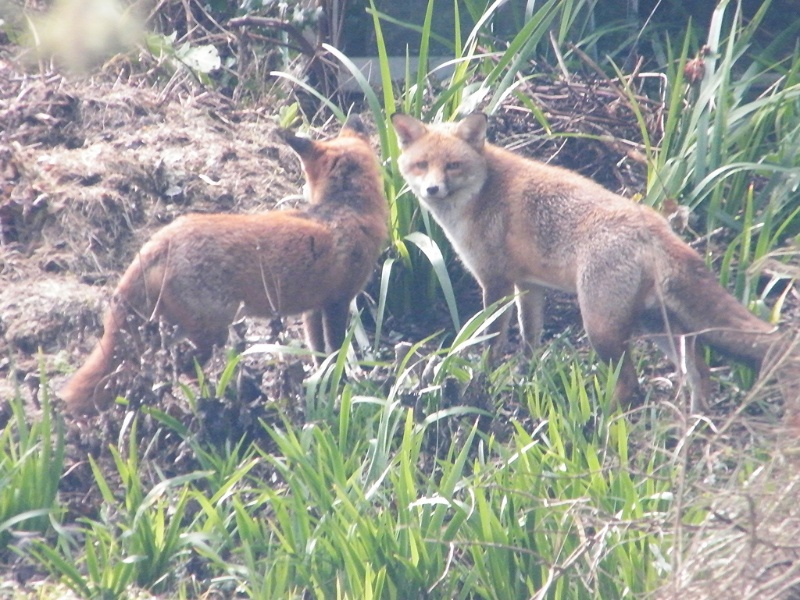fox: (390, 108, 788, 429), (53, 114, 391, 419)
